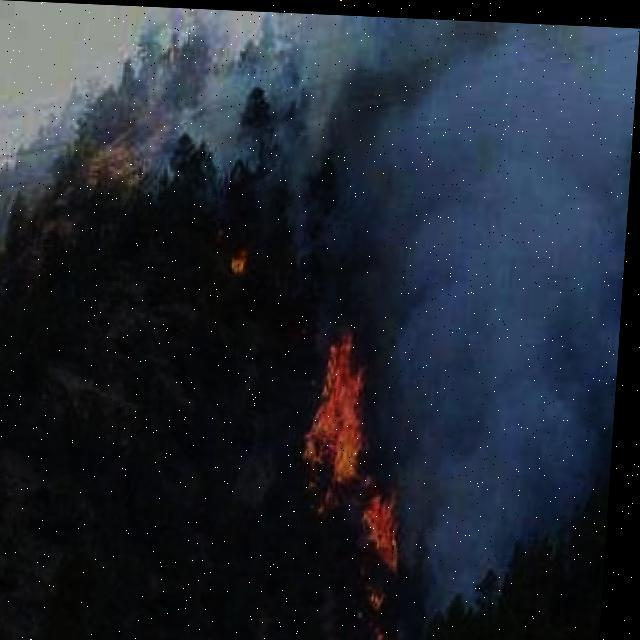Fire: (308, 322, 422, 570), (369, 580, 413, 639), (223, 227, 254, 275)
